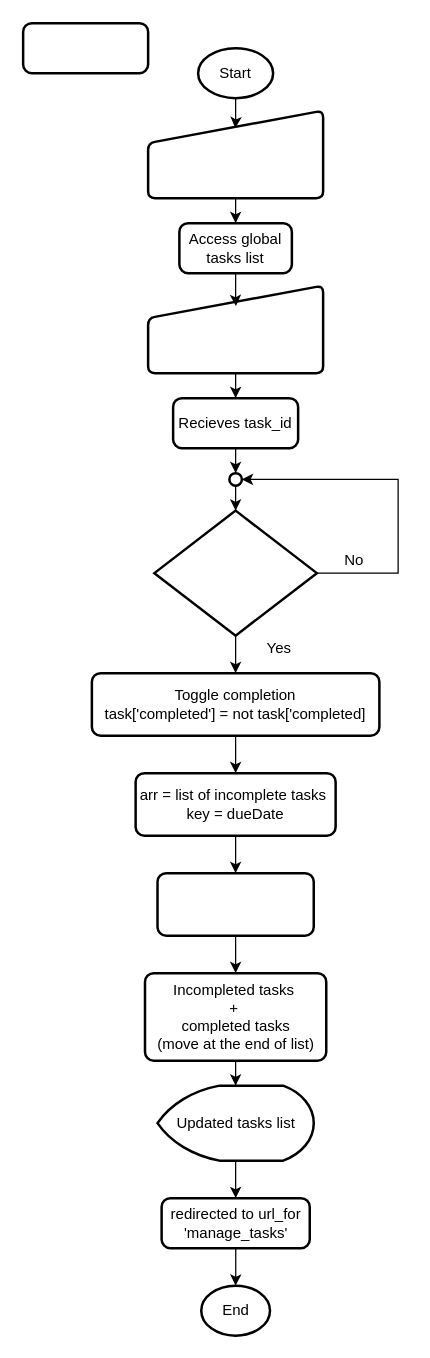
Some shapes in this 430 by 1358 pixel diagram are drawn without their labels. The centre of each missing label's shape, as x and y in pixels:
"Complete Button" belongs at point 85,47.
"If task[id] = task_id" belongs at point 235,572.
"Sort incomplete tasks by Due date [Insertion sort]" belongs at point 235,903.
"User click Complete button Post Request" belongs at point 235,329.
"User selected task in Task list" belongs at point 235,154.
